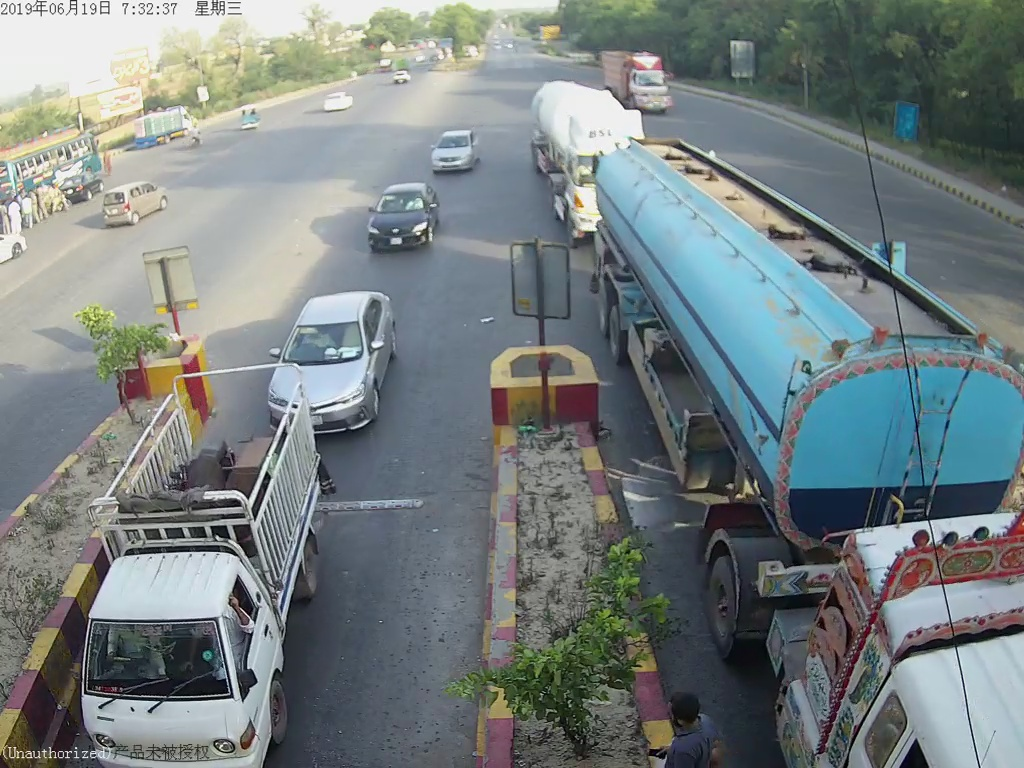Cat-1: (263, 298, 395, 395), (359, 181, 446, 264), (424, 117, 482, 174)
Cat-2: (68, 540, 285, 754)
